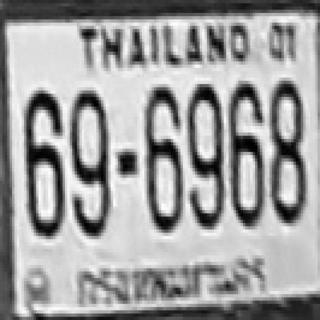N06: (143, 84, 182, 230), (24, 89, 62, 234), (228, 81, 264, 223)
N08: (268, 78, 304, 220)
N09: (70, 87, 108, 233), (186, 81, 222, 226)
P04: (68, 256, 275, 313)
